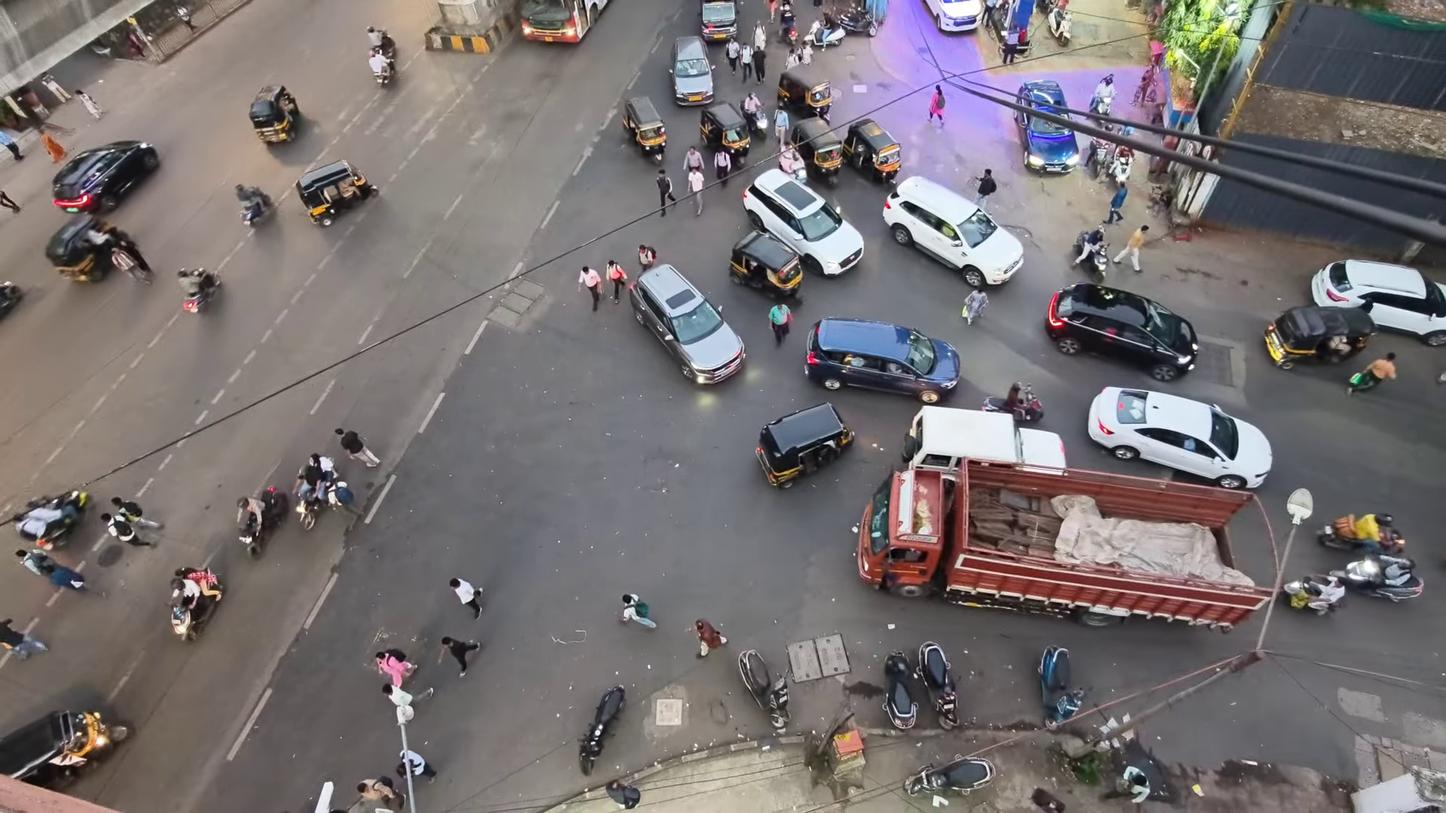driving: (857, 462, 1272, 629), (1087, 387, 1272, 488), (883, 176, 1022, 288), (1046, 282, 1198, 381), (628, 263, 745, 383), (805, 318, 959, 403), (743, 169, 864, 276), (1310, 260, 1445, 346), (903, 406, 1066, 475), (0, 711, 130, 789), (755, 402, 853, 487), (53, 141, 158, 212), (1015, 112, 1080, 172), (518, 0, 609, 42), (669, 36, 714, 105), (700, 0, 737, 41)
walking: (16, 550, 84, 590), (1347, 352, 1396, 394), (111, 229, 152, 277), (0, 619, 47, 659), (100, 513, 154, 546), (1112, 225, 1149, 272), (335, 429, 380, 467), (111, 497, 163, 528), (439, 636, 479, 676), (376, 649, 416, 687), (357, 778, 404, 809), (382, 683, 434, 708), (397, 749, 436, 781), (449, 579, 480, 619), (694, 620, 727, 656), (621, 594, 655, 628), (578, 266, 602, 311), (768, 303, 792, 346), (606, 779, 639, 808), (656, 169, 676, 216), (961, 289, 987, 324), (606, 260, 627, 303), (74, 89, 104, 119), (975, 169, 997, 209), (1030, 787, 1065, 812), (39, 132, 67, 163), (1105, 185, 1127, 224), (687, 169, 703, 215), (0, 130, 23, 160), (1002, 26, 1020, 64), (714, 148, 732, 185), (929, 85, 945, 125), (774, 105, 789, 145), (725, 37, 740, 74), (176, 5, 196, 32), (683, 146, 703, 173), (740, 43, 754, 81), (638, 244, 657, 271), (752, 47, 766, 83), (752, 21, 767, 53), (0, 190, 20, 212), (799, 41, 813, 65), (768, 0, 778, 23)
